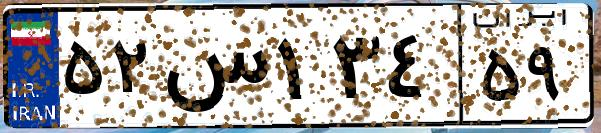1: (270, 28, 330, 110)
2: (110, 28, 158, 98)
3: (330, 28, 385, 110)
4: (385, 28, 445, 110)
5: (57, 26, 110, 100), (475, 38, 525, 113)
9: (525, 38, 570, 115)
س: (158, 20, 270, 120)
